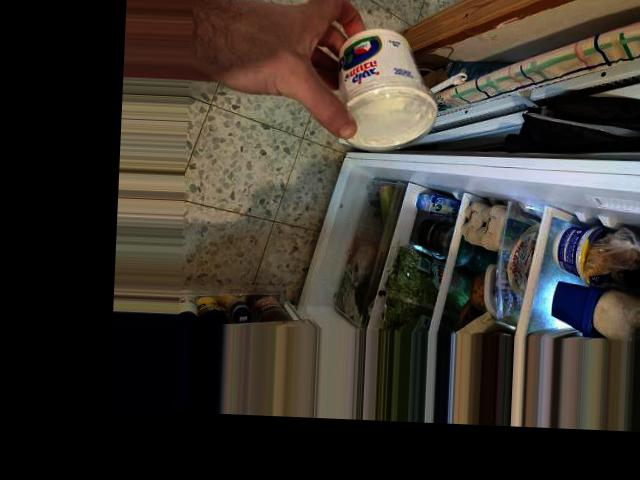cotage: (324, 26, 449, 131)
